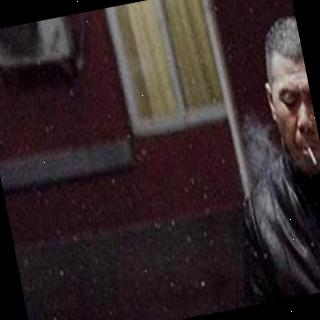smoke: (237, 111, 294, 195)
